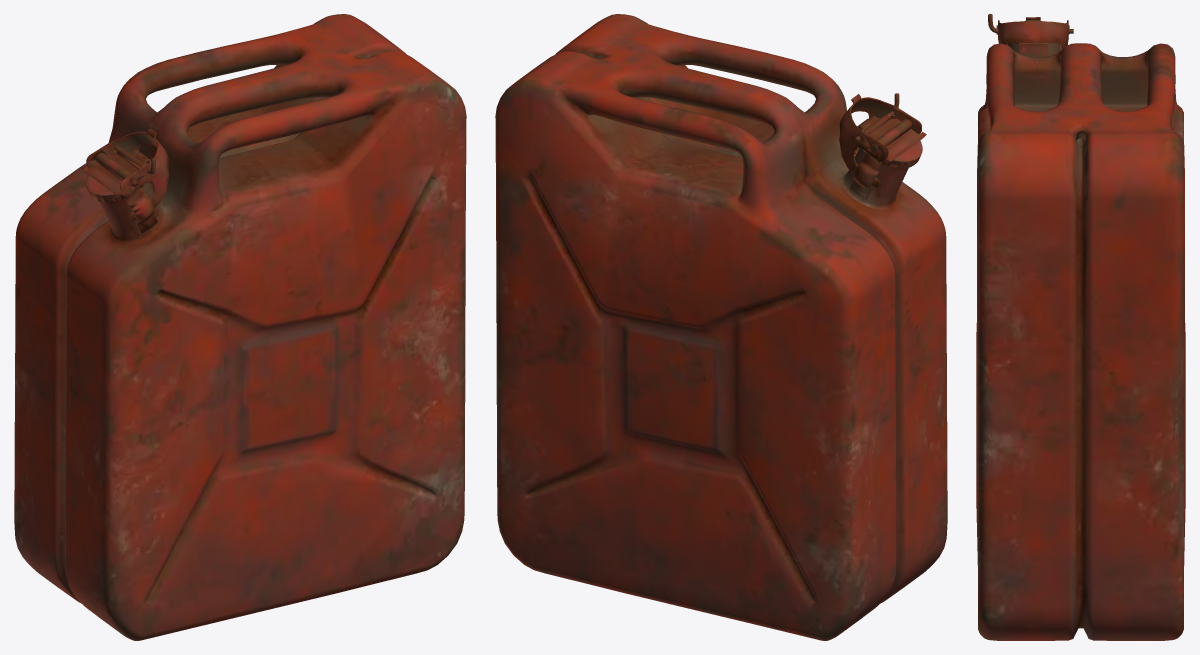
Rendered from metal_jerrycan.glb.
3 views of the same model, side by side, from view 1: azimuth 30°, elevation 25°; view 2: azimuth 150°, elevation 25°; view 3: azimuth 270°, elevation 25° (orthographic). The views are drawn at different scales.
Visible parts, largest first — view 1: metal_jerrycan; view 2: metal_jerrycan; view 3: metal_jerrycan.
Part boxes in pixels (x1=…): metal_jerrycan: x1=14, y1=14, x2=466, y2=640; metal_jerrycan: x1=495, y1=14, x2=947, y2=640; metal_jerrycan: x1=976, y1=14, x2=1185, y2=640.
Bounding box in the file's own units: 0.3503 × 0.4552 × 0.1717.
Materials: 1 (1 with a texture image).
